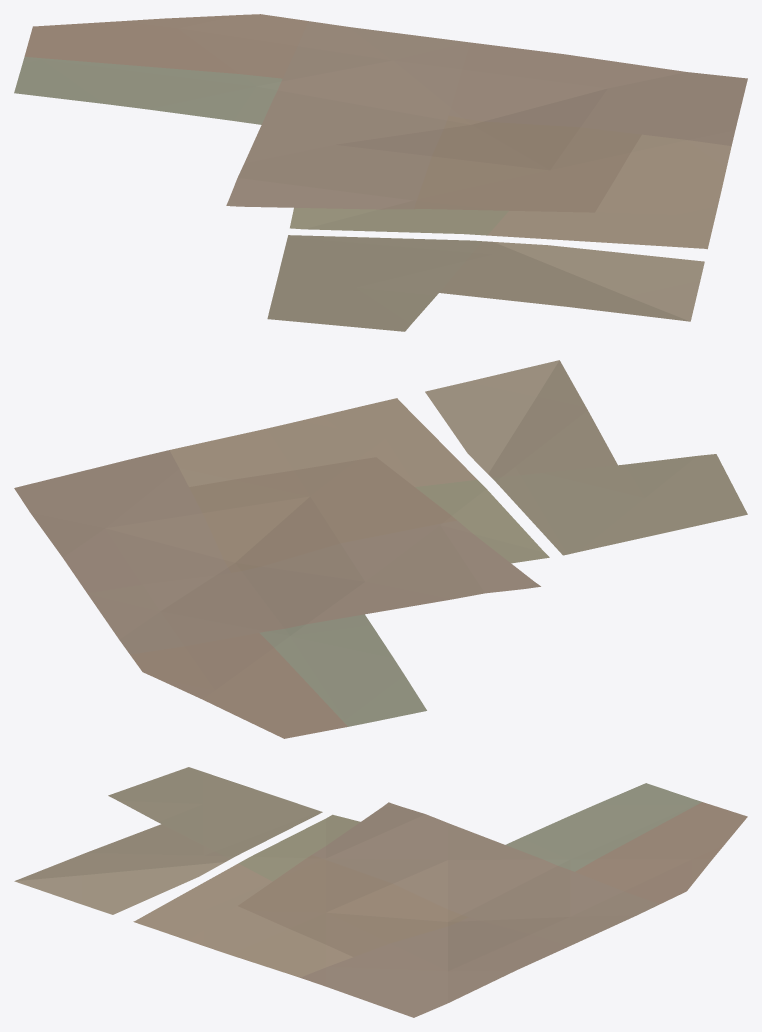
File: farm_4_10_soil.glb
3 renders of one model, top to bottom at view 1: azimuth 30°, elevation 25°; view 2: azimuth 150°, elevation 25°; view 3: azimuth 270°, elevation 25°, orthographic. The views are drawn at different scales.
Parts seen in each view (by area): view 1: geometry_0; view 2: geometry_0; view 3: geometry_0.
Boxes of the visible parts, bbox=[...] form: geometry_0: bbox=[14, 14, 747, 331]; geometry_0: bbox=[14, 360, 747, 738]; geometry_0: bbox=[14, 767, 747, 1017].
Size of the model in its own units: 367 by 13.15 by 481.
